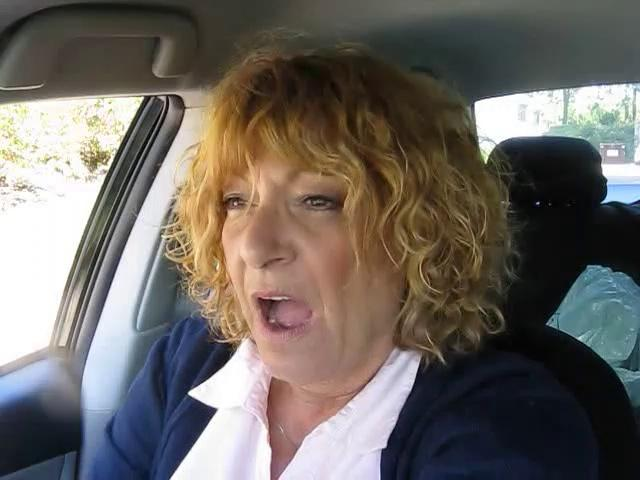open_eyeL: (209, 187, 267, 224)
open_eyeR: (281, 180, 365, 228)
yawn: (236, 281, 330, 346)
